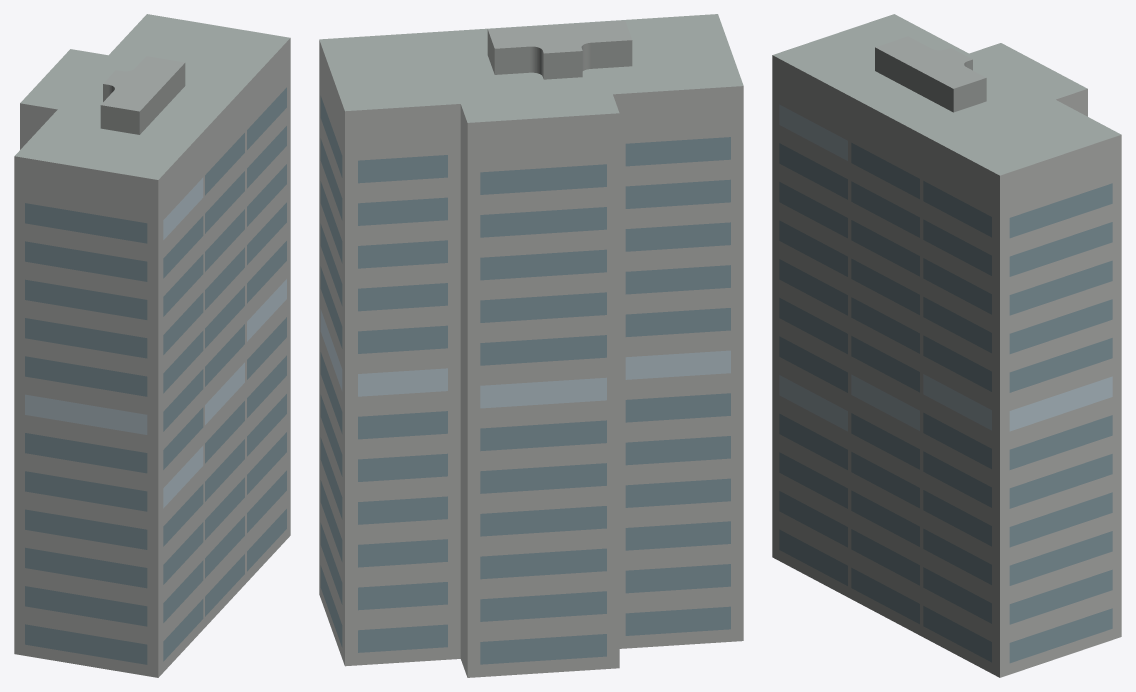
Rendered from fallback-gaepo-raemian-forest-113.glb.
3 renders of one model, left to right at view 1: azimuth 30°, elevation 25°; view 2: azimuth 150°, elevation 25°; view 3: azimuth 270°, elevation 25°, orthographic. The views are drawn at different scales.
Visible parts, largest first — view 1: fallback-gaepo-raemian-forest-113; view 2: fallback-gaepo-raemian-forest-113; view 3: fallback-gaepo-raemian-forest-113.
Part boxes in pixels (box(x1,y1,x2,y2)): fallback-gaepo-raemian-forest-113: box(14, 14, 290, 677); fallback-gaepo-raemian-forest-113: box(319, 14, 743, 677); fallback-gaepo-raemian-forest-113: box(772, 14, 1121, 677).
Size of the model in its own units: 27.03 by 41 by 24.67.
